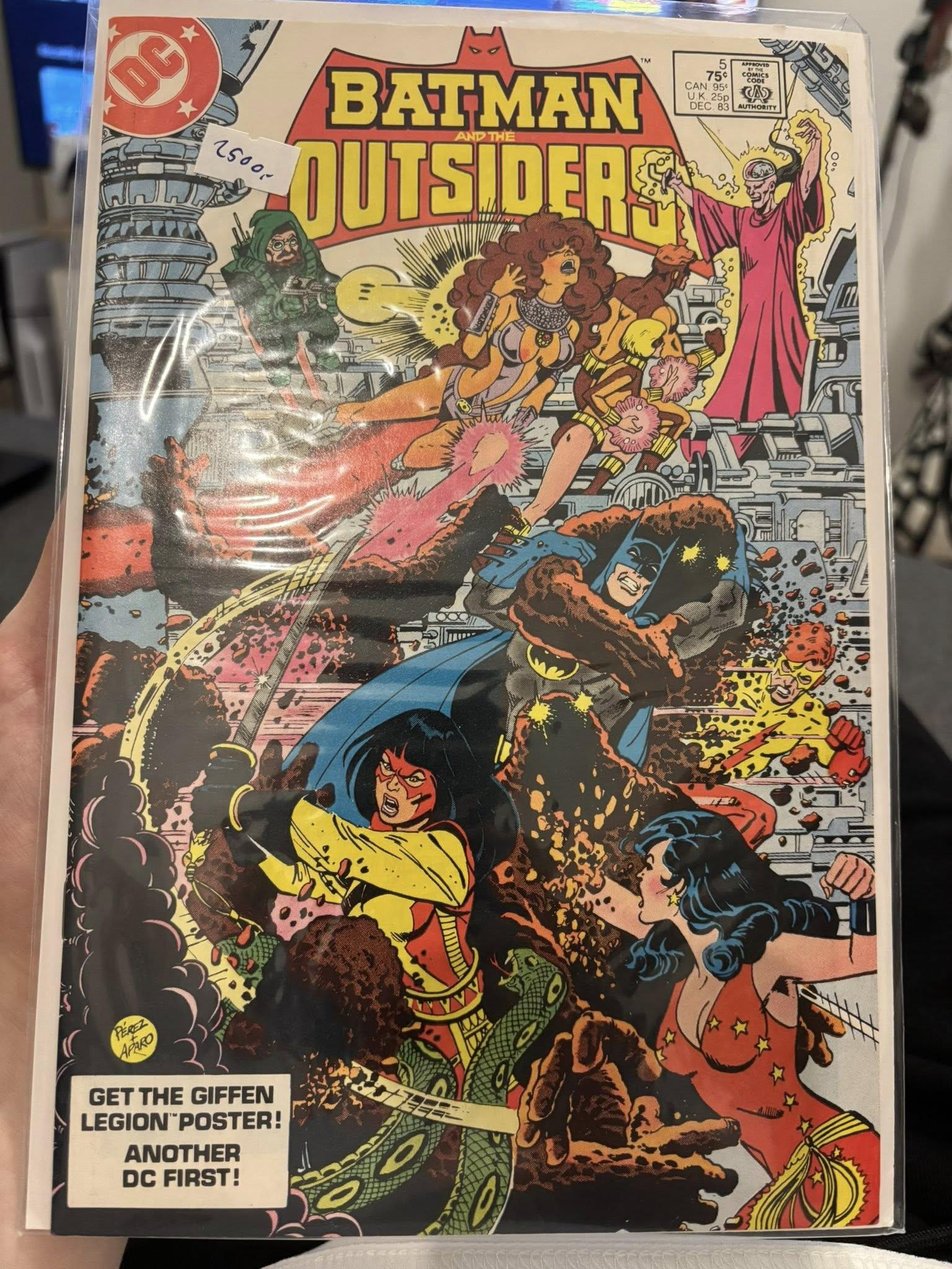comic: (30, 0, 926, 1254)
